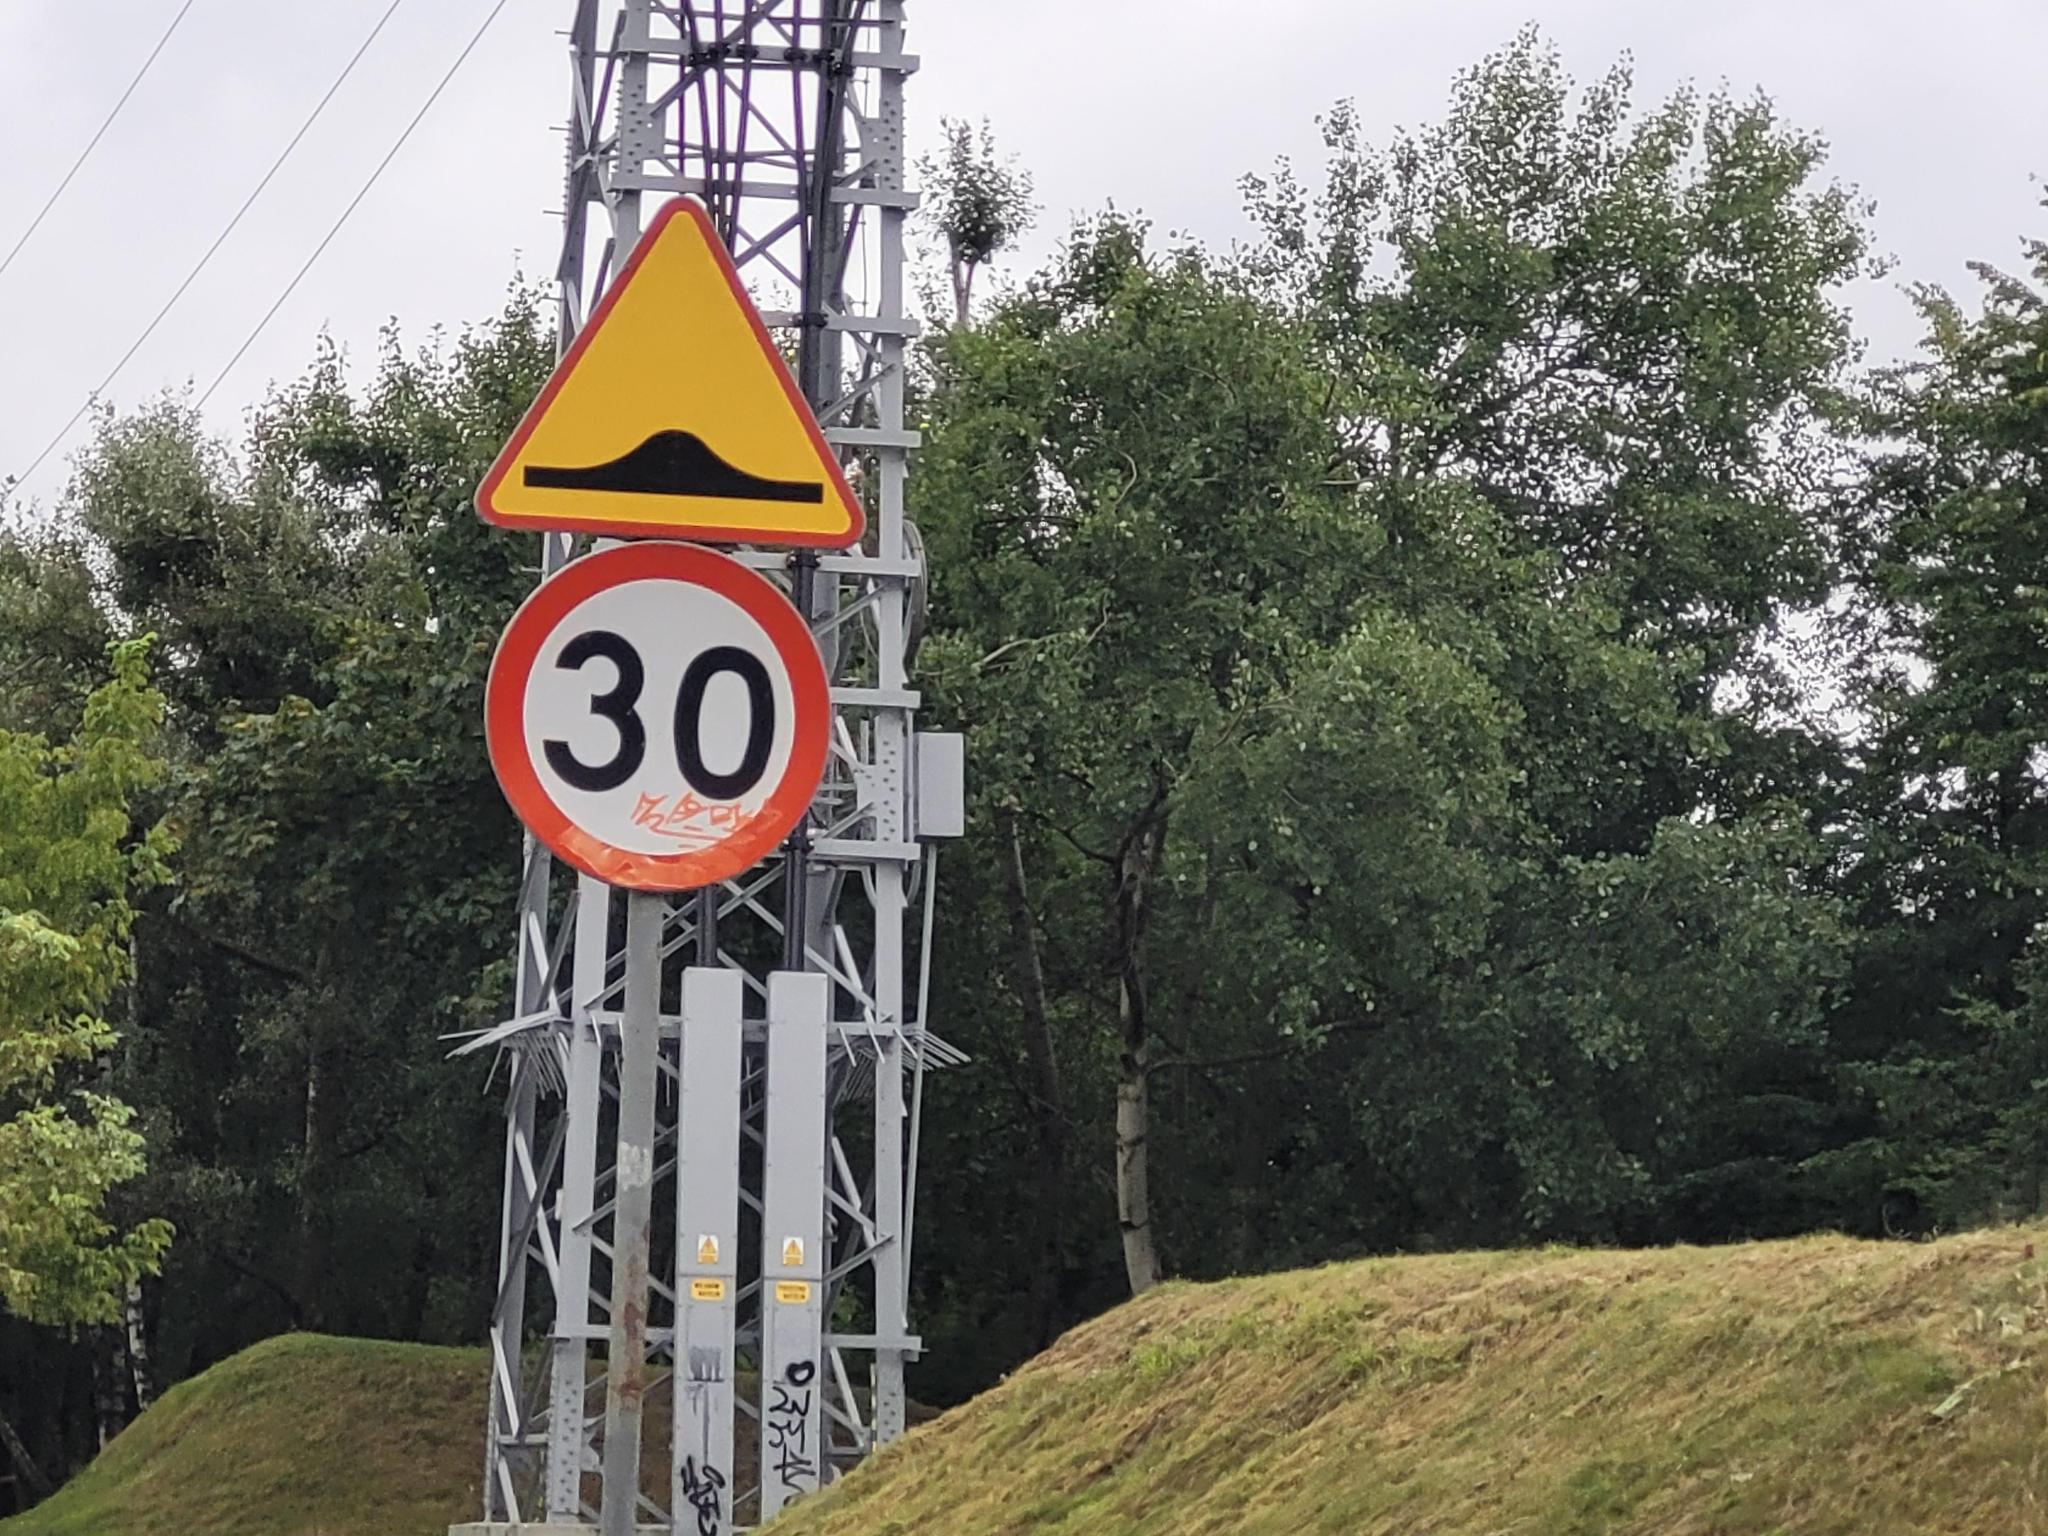prohibitory: (482, 537, 835, 895)
warning: (472, 194, 866, 549)
